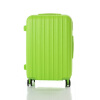luggage: (24, 13, 73, 89)
